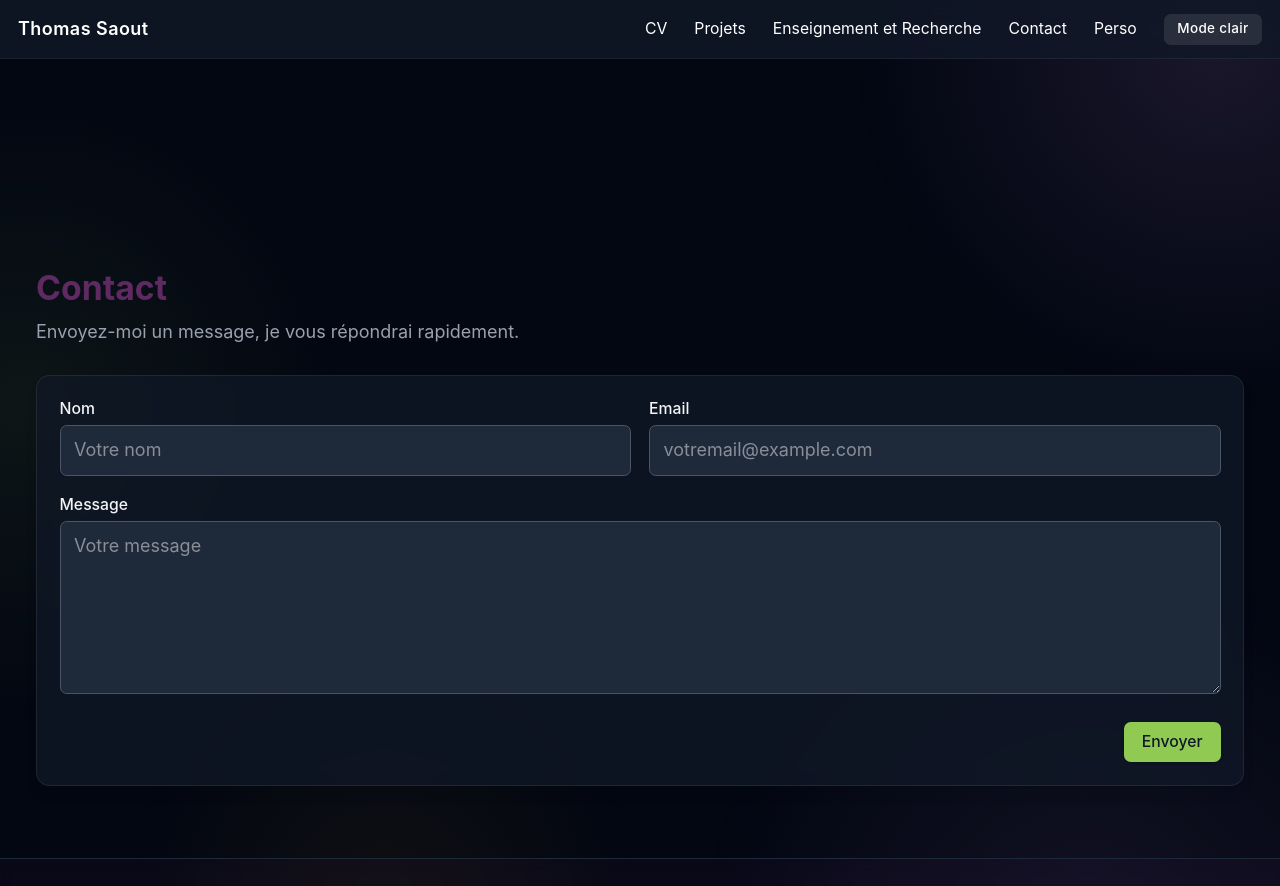
Test: SectionContact › shows error message on fetch failure
This screenshot has width=1280, height=886.
(page scrolled)
In the field with placeholder "Votre nom": (345, 451) [60,426,631,476], type "Bob"
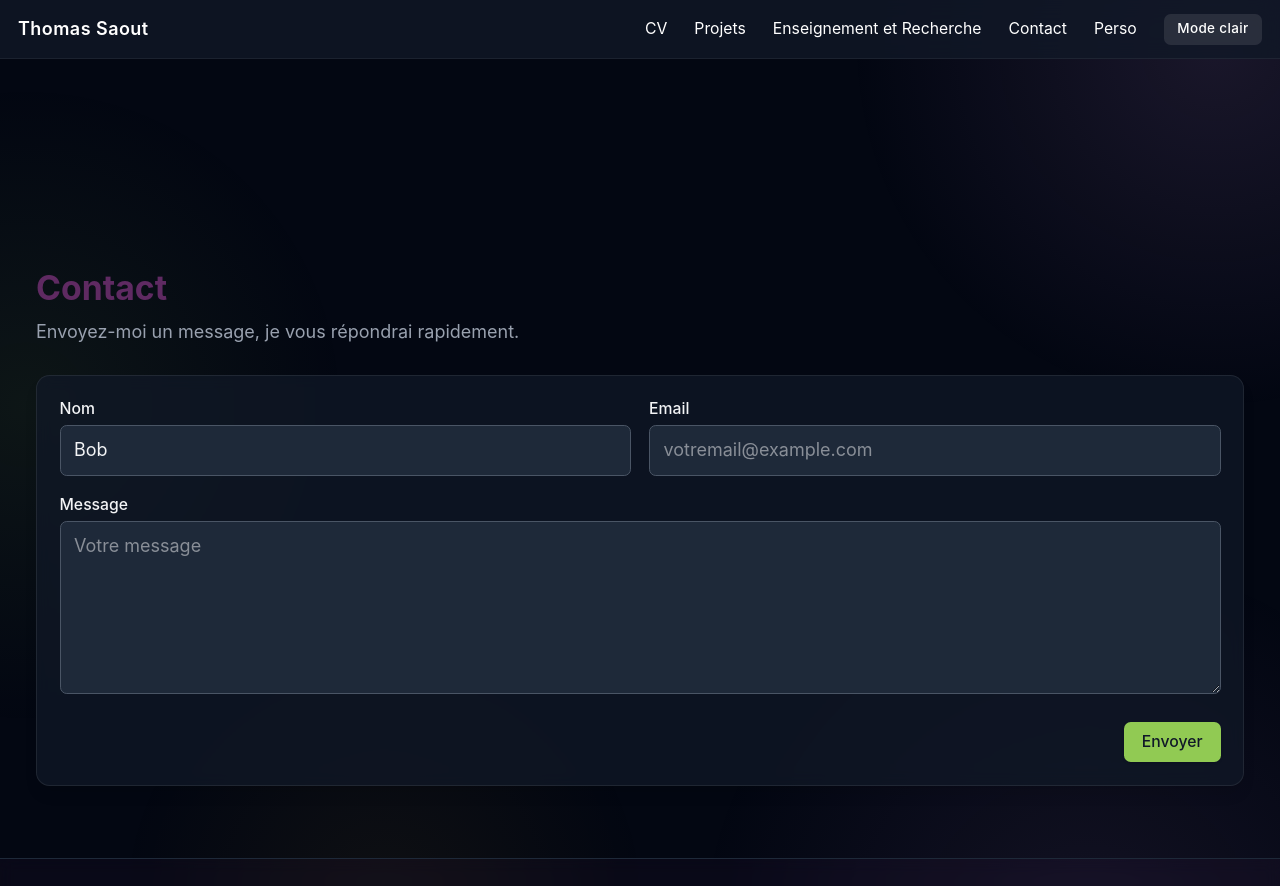
In the field with placeholder "votremail@example.com": (935, 451) [649,426,1220,476], type "bob@example.com"
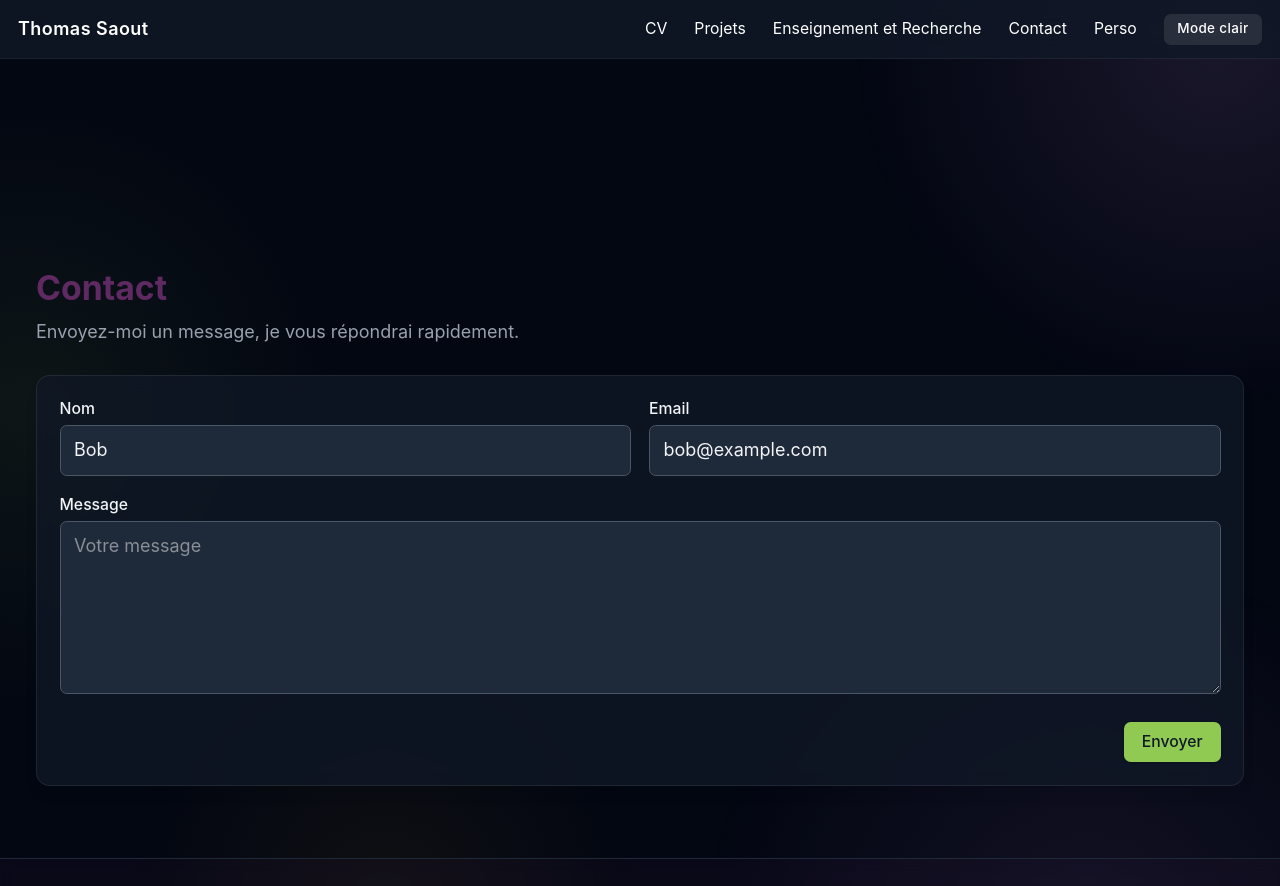
In the text box with placeholder "Votre message": (640, 608) [60,521,1220,694], type "Hi"
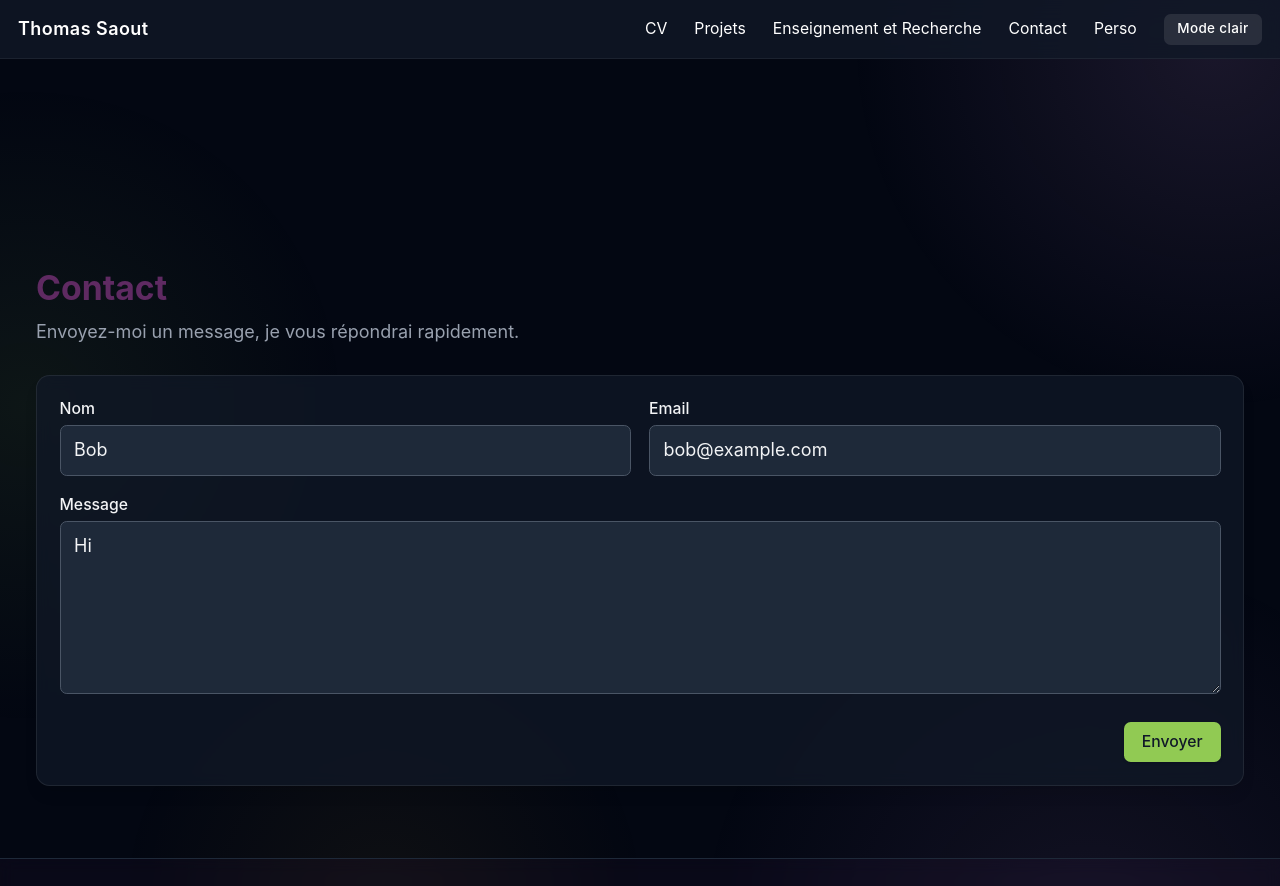
Click the button "Envoyer": (1172, 742) [1124,722,1220,762]
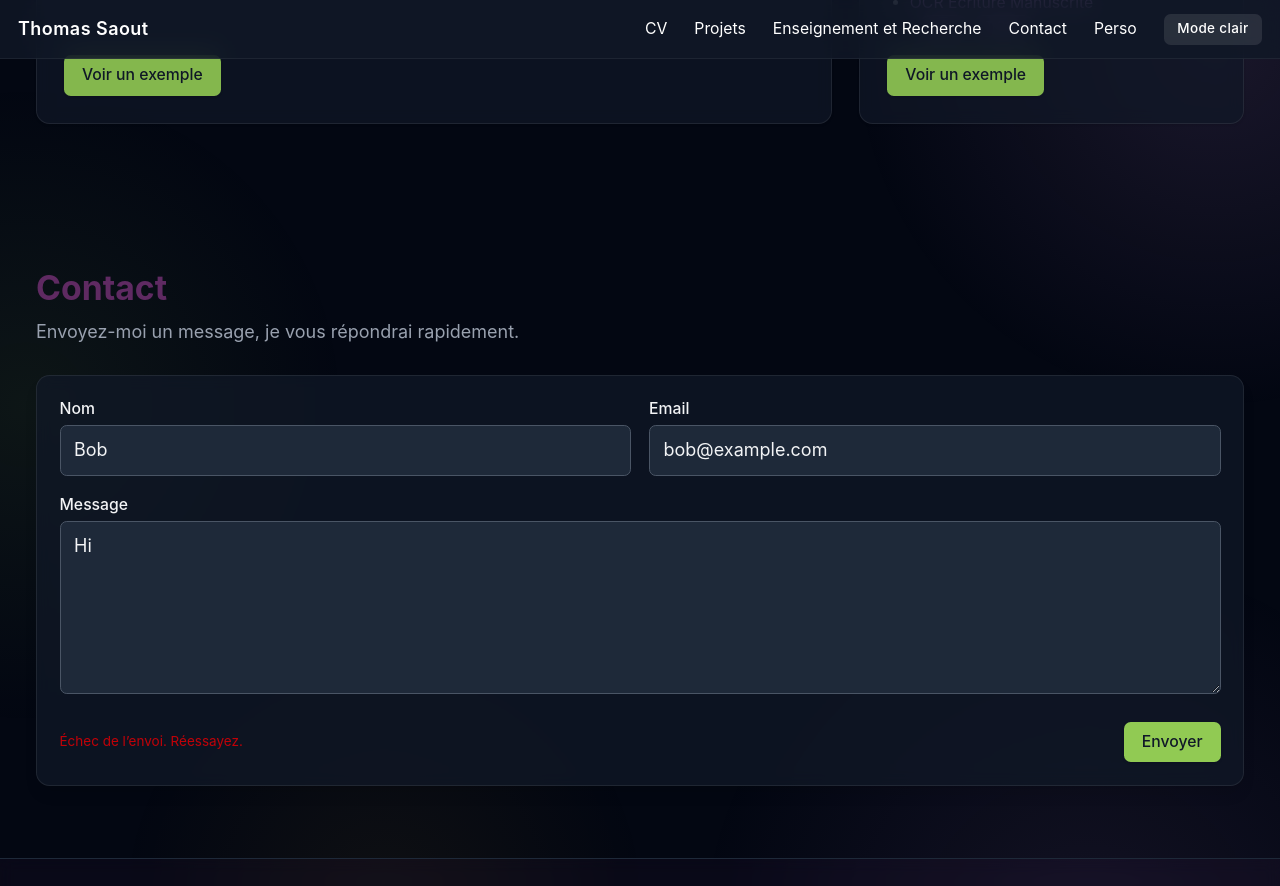
Result: the text "Échec de l’envoi. Réessayez." is shown at [60,733,243,751]
